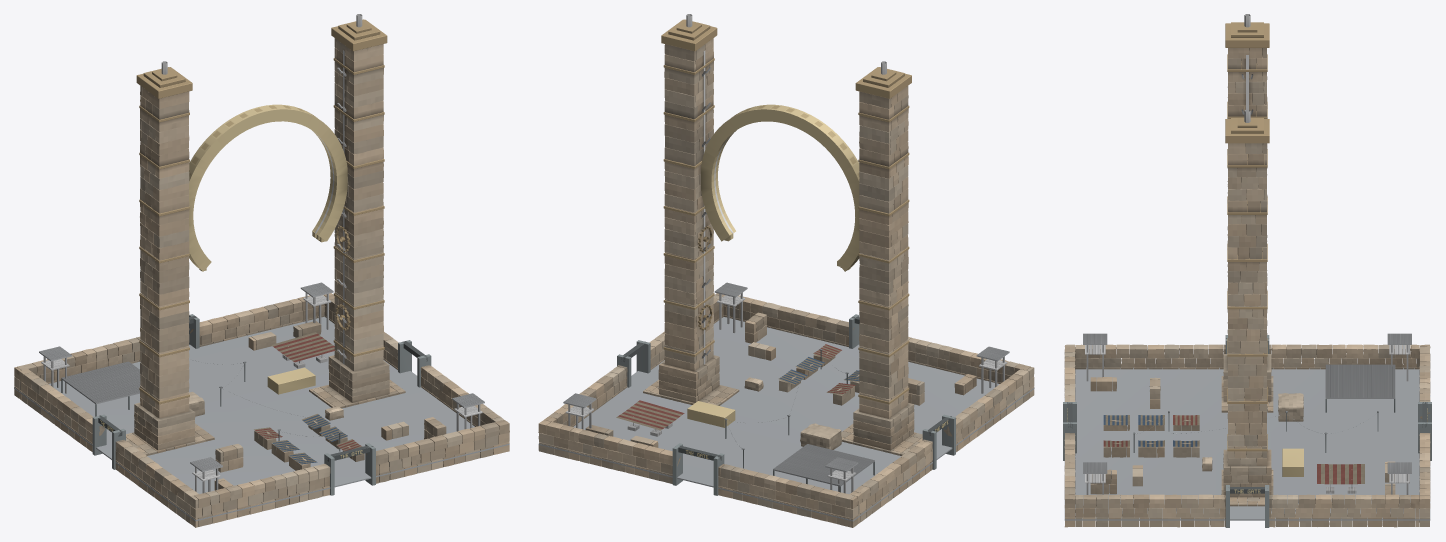
Rendered from town.glb.
3 views of the same model, side by side, from view 1: azimuth 30°, elevation 25°; view 2: azimuth 150°, elevation 25°; view 3: azimuth 270°, elevation 25° (orthographic).
Parts seen in each view (by area): view 1: ashlar, yard, gilt, sheet, steel, canvas, timber, lapis; view 2: ashlar, yard, gilt, steel, sheet, canvas, timber, lapis; view 3: ashlar, yard, gilt, sheet, canvas, steel, timber.
Boxes of the visible parts, x1=… form: ashlar: x1=14, y1=38, x2=509, y2=527; yard: x1=14, y1=316, x2=509, y2=521; gilt: x1=100, y1=19, x2=387, y2=458; sheet: x1=39, y1=282, x2=484, y2=471; steel: x1=61, y1=314, x2=431, y2=495; canvas: x1=254, y1=332, x2=362, y2=464; timber: x1=41, y1=292, x2=482, y2=493; lapis: x1=161, y1=14, x2=362, y2=364; ashlar: x1=538, y1=38, x2=1034, y2=527; yard: x1=538, y1=317, x2=1034, y2=521; gilt: x1=661, y1=19, x2=948, y2=458; steel: x1=617, y1=314, x2=955, y2=495; sheet: x1=563, y1=282, x2=1009, y2=486; canvas: x1=616, y1=344, x2=859, y2=430; timber: x1=565, y1=292, x2=1007, y2=493; lapis: x1=686, y1=14, x2=886, y2=364; ashlar: x1=1064, y1=48, x2=1430, y2=527; yard: x1=1064, y1=367, x2=1430, y2=520; gilt: x1=1067, y1=22, x2=1427, y2=493; sheet: x1=1083, y1=333, x2=1411, y2=473; canvas: x1=1103, y1=415, x2=1364, y2=484; steel: x1=1063, y1=335, x2=1431, y2=527; timber: x1=1085, y1=345, x2=1409, y2=494.
Bounding box in the file's own units: 84.8 × 98.2 × 84.8.
